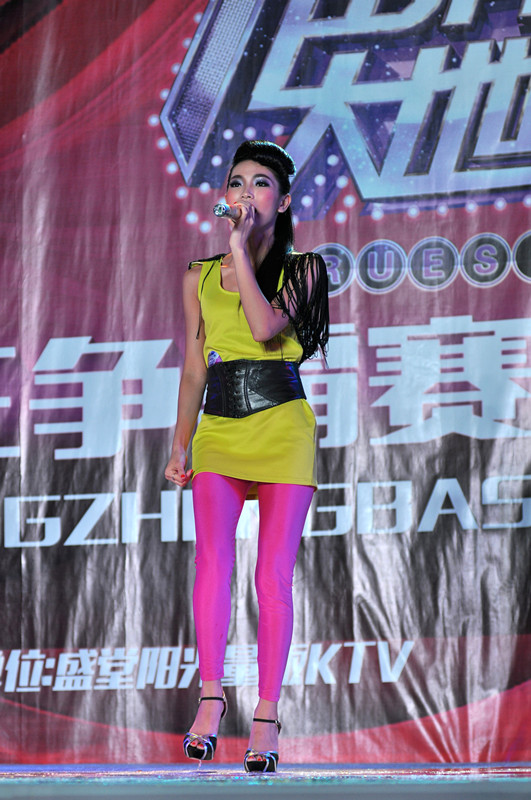handsup: (157, 139, 342, 787)
